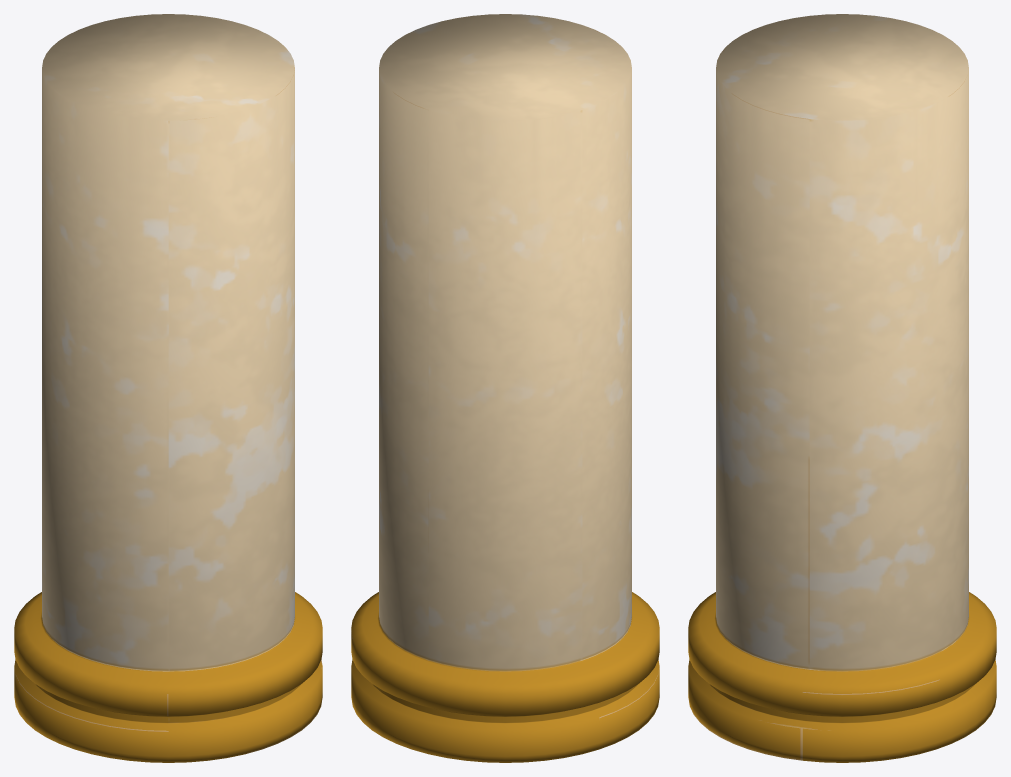
The model's file is pillarSingle.fbx.
The picture shows the model from 3 angles, left to right: view 1: azimuth 30°, elevation 25°; view 2: azimuth 150°, elevation 25°; view 3: azimuth 270°, elevation 25°; orthographic projection.
Visible parts, largest first — view 1: pillars.001; view 2: pillars.001; view 3: pillars.001.
Part boxes in pixels (x1,y1,x2,y2): pillars.001: [14, 14, 322, 762]; pillars.001: [351, 14, 659, 762]; pillars.001: [688, 14, 996, 762].
Size of the model in its own units: 334 by 753 by 334.
